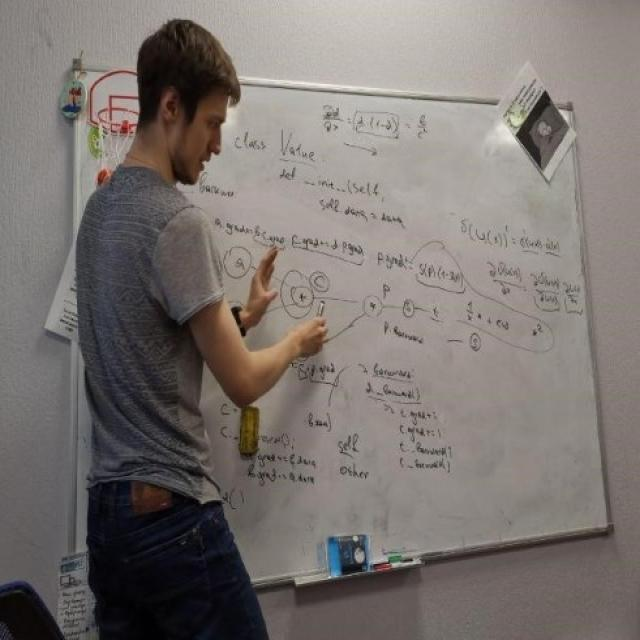Instructor: (50, 16, 259, 624)
White-board: (80, 67, 607, 605)
